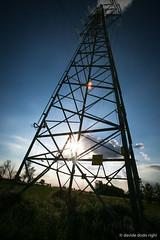power_tower: (22, 2, 146, 225)
